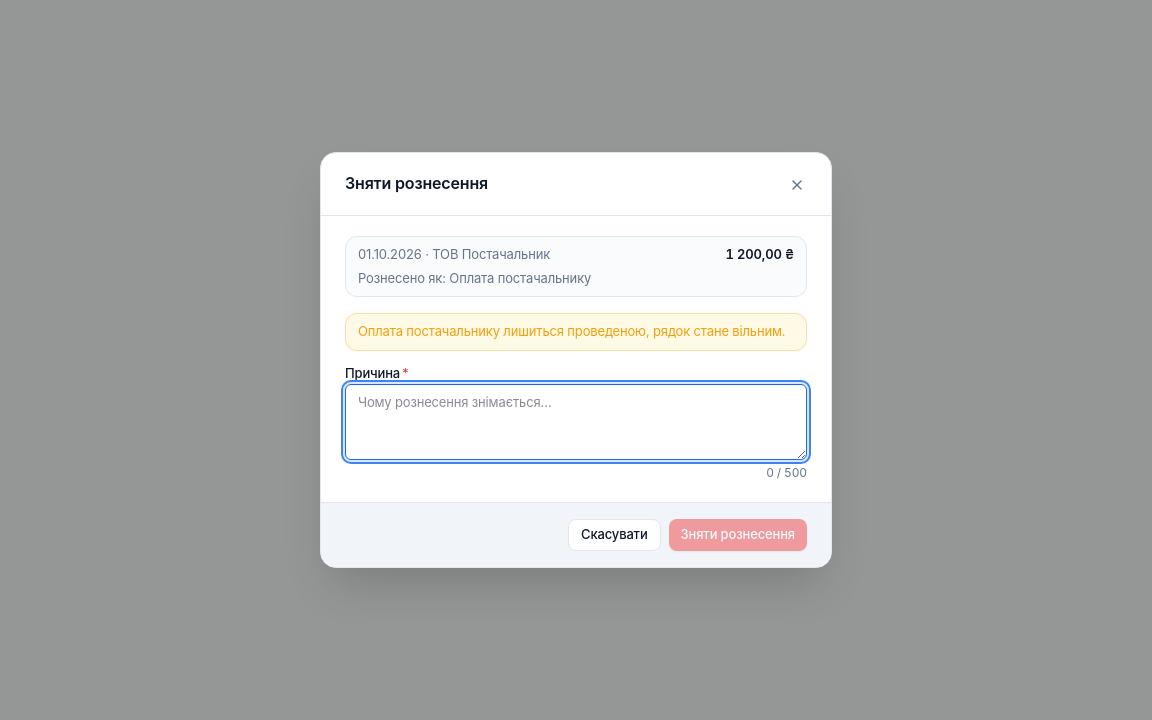
Test: UnreconcileBankTransactionModal › ліміт причини — 500 символів, лічильник показує довжину
The width and height of the screenshot is (1152, 720).
Expected: the text "0 / 500" is shown, [766, 465, 807, 480]
Type "дубль" into the text box labelled "Причина*" at [576, 422], box [345, 384, 807, 460]
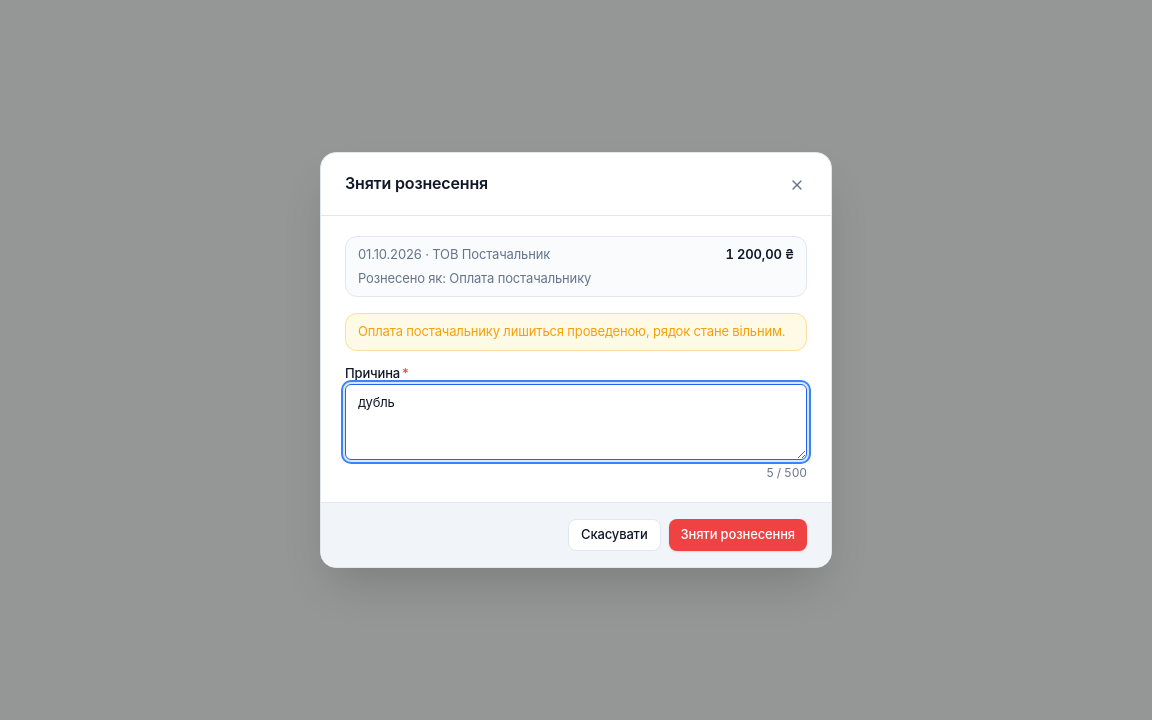
Expected: the text "5 / 500" is shown, [766, 465, 807, 480]
